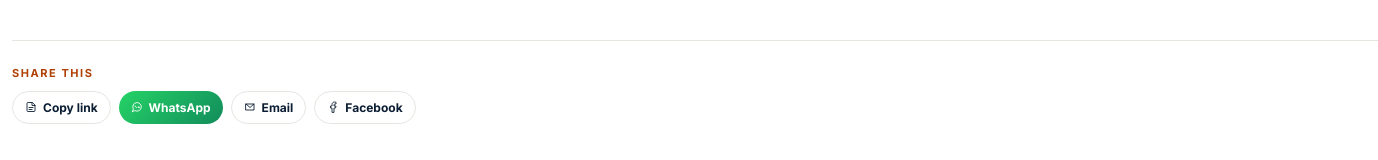
Test: SharePage › shows error toast when clipboard fails
Click the button "Copy link". click: click(61, 107)
box: top-left (12, 91), bottom-right (111, 124)
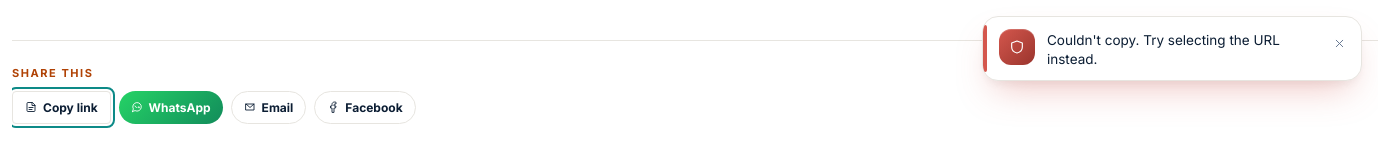
expect the text "Couldn't copy. Try selecting the URL instead." is shown: met, box top-left (1047, 29), bottom-right (1313, 68)
